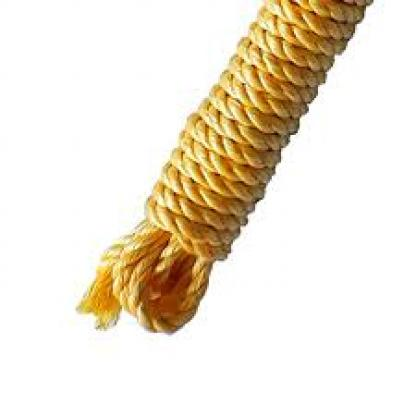Rope: (67, 0, 376, 338)
